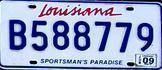placa de veiculo: (8, 3, 154, 63)
